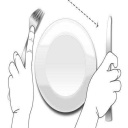Fork: (17, 6, 47, 64)
